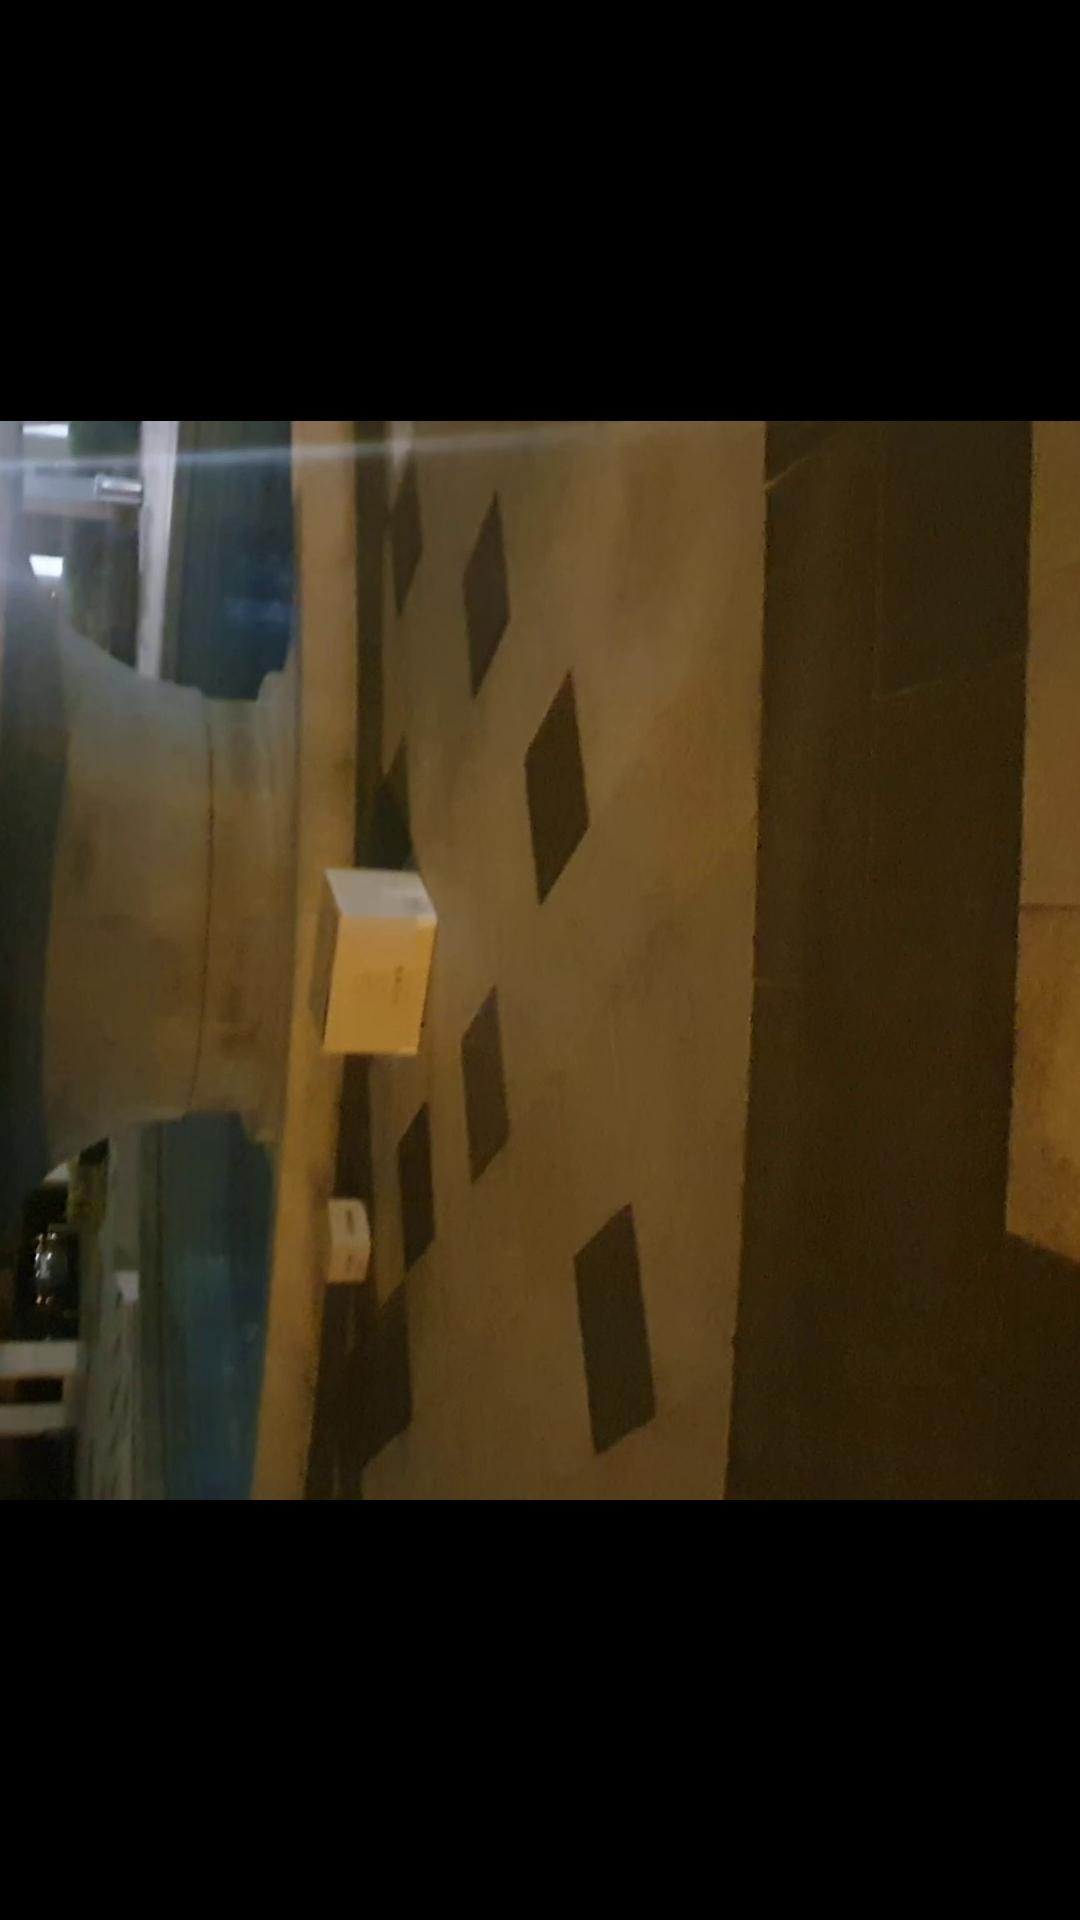Box: (293, 804, 468, 1114), (276, 1139, 433, 1323)
